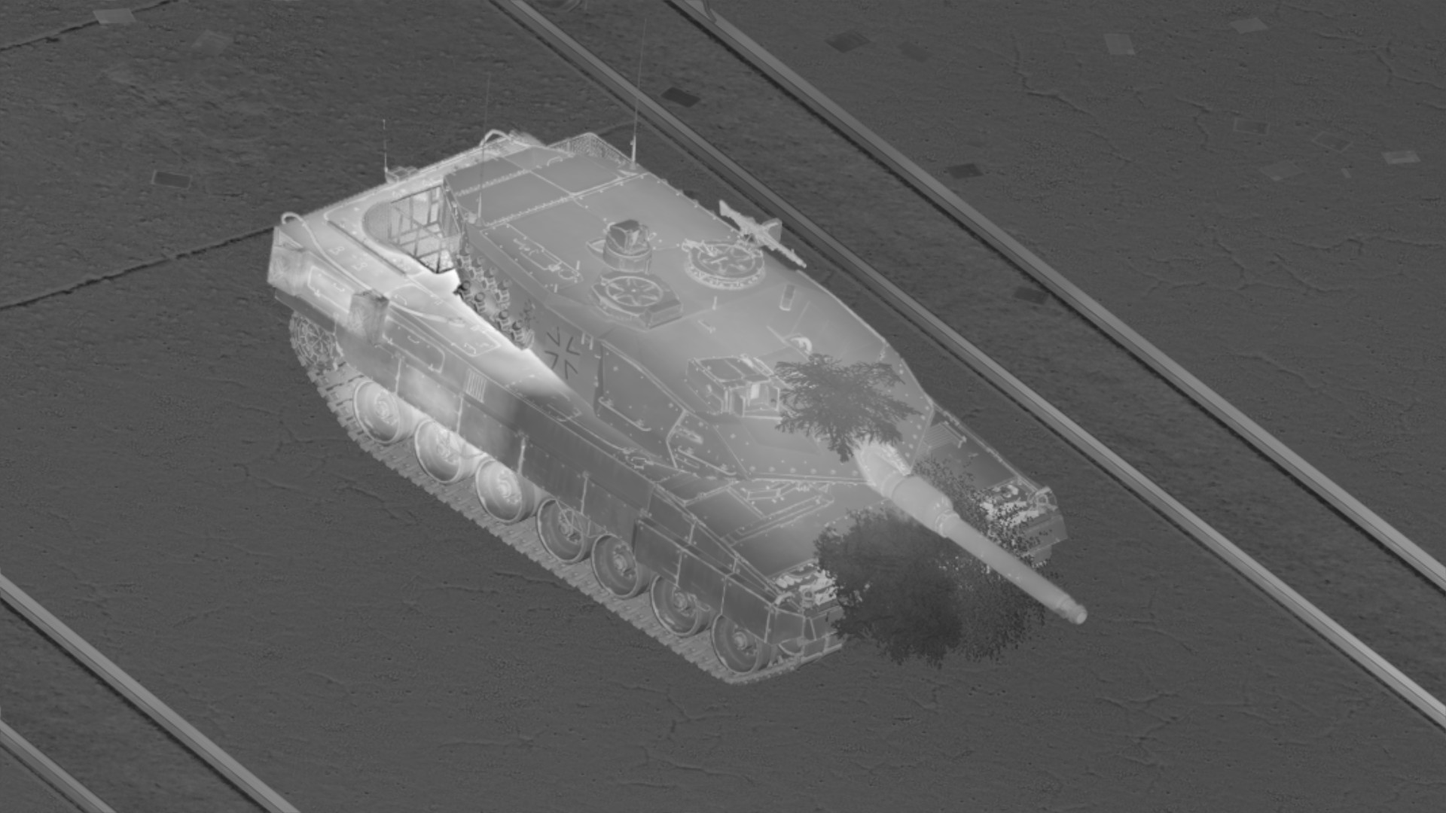leopard2: (266, 129, 1088, 687)
